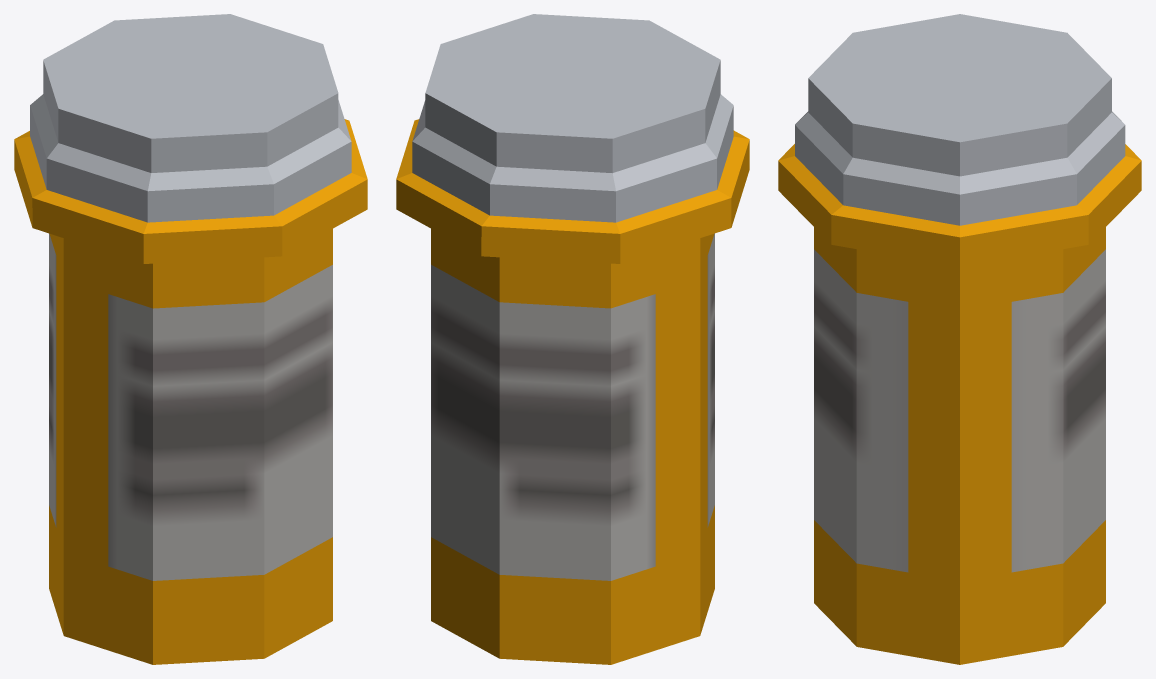
Rendered from SM_Prop_Pills_01.glb.
3 renders of one model, left to right at view 1: azimuth 30°, elevation 25°; view 2: azimuth 150°, elevation 25°; view 3: azimuth 270°, elevation 25°, orthographic.
Parts seen in each view (by area): view 1: SM_Prop_Pills_01; view 2: SM_Prop_Pills_01; view 3: SM_Prop_Pills_01.
Part boxes in pixels (bbox=[...]): SM_Prop_Pills_01: bbox=[14, 14, 367, 664]; SM_Prop_Pills_01: bbox=[396, 14, 749, 664]; SM_Prop_Pills_01: bbox=[778, 14, 1141, 664].
Size of the model in its own units: 0.1458 by 0.2324 by 0.1458.
Materials: 1 (1 with a texture image).
